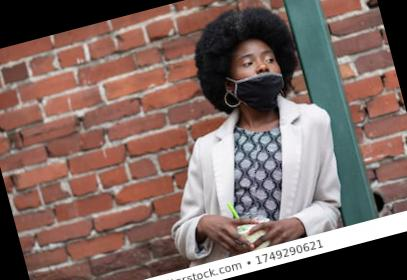mask_weared_incorrect: (234, 48, 286, 104)
